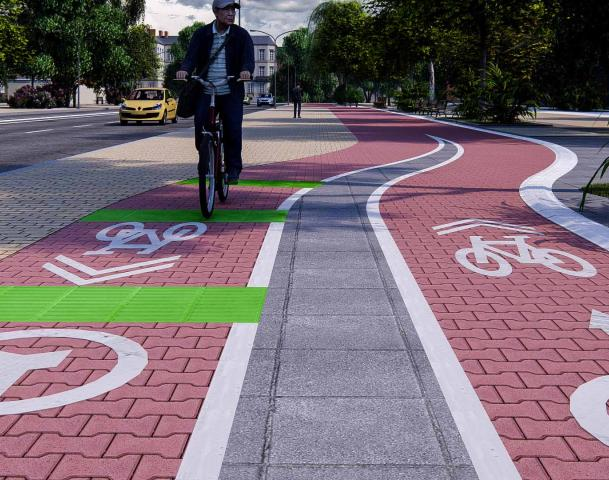Bicycle: (183, 88, 253, 221)
Car: (108, 81, 181, 133)
Person: (186, 1, 257, 184), (292, 80, 308, 127)
Tree: (384, 1, 546, 126), (30, 3, 128, 109)
